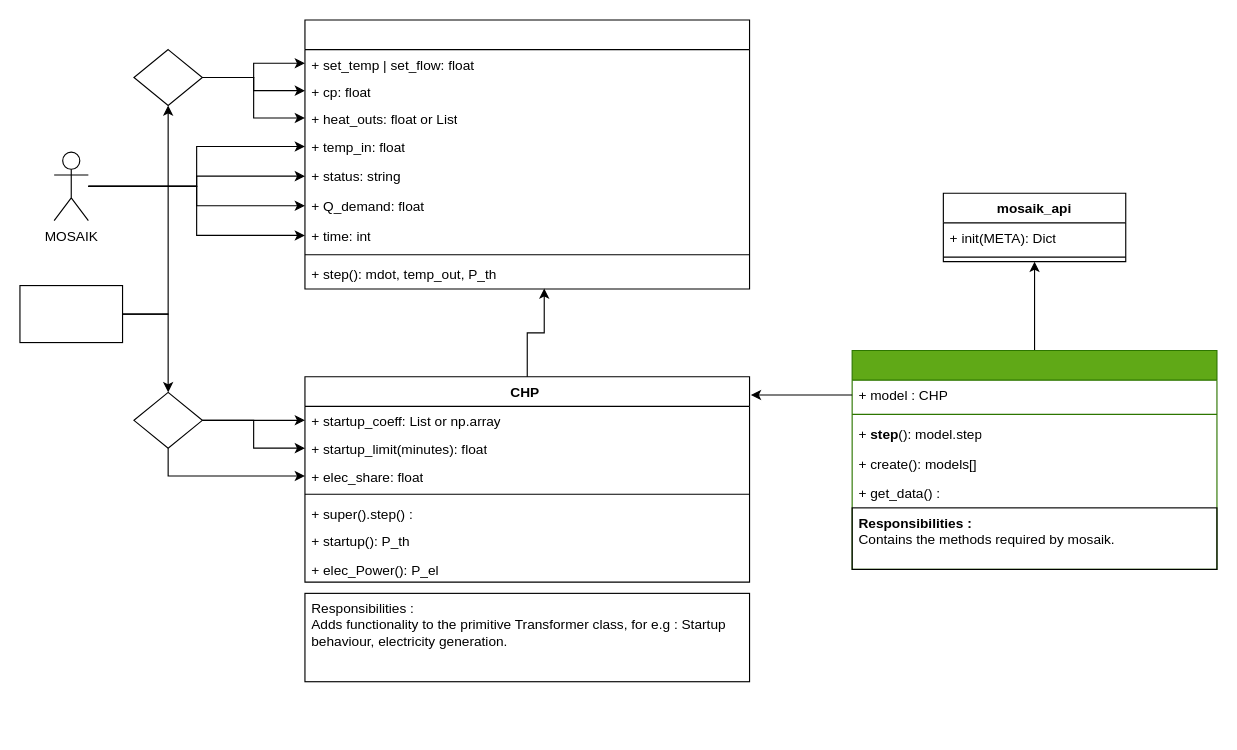
Some shapes in this 1237 by 750 pixel diagram are drawn without their labels. Here are the shapes that lost their labels. From the top down, the box of each, then its label:
(304, 19, 750, 289): Transformer_base
(19, 284, 123, 343): params
(851, 349, 1217, 569): TransformerSimulator<<simulator>>
